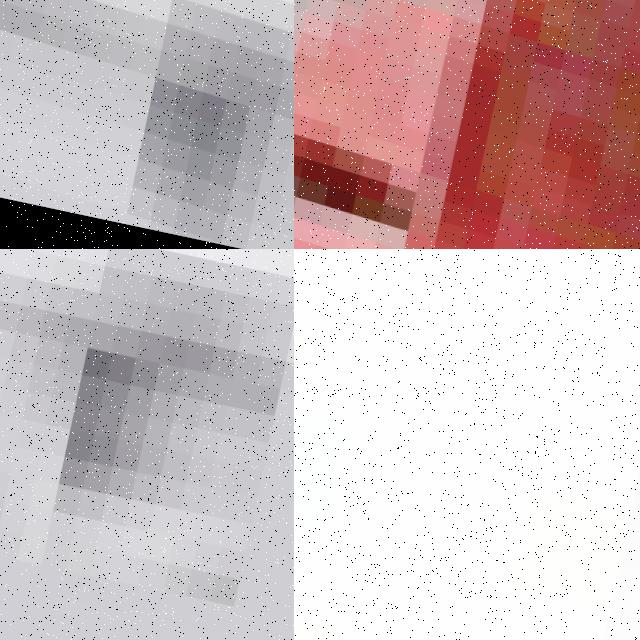0: (0, 0, 294, 249)
drone: (294, 249, 640, 640), (294, 0, 640, 249)
